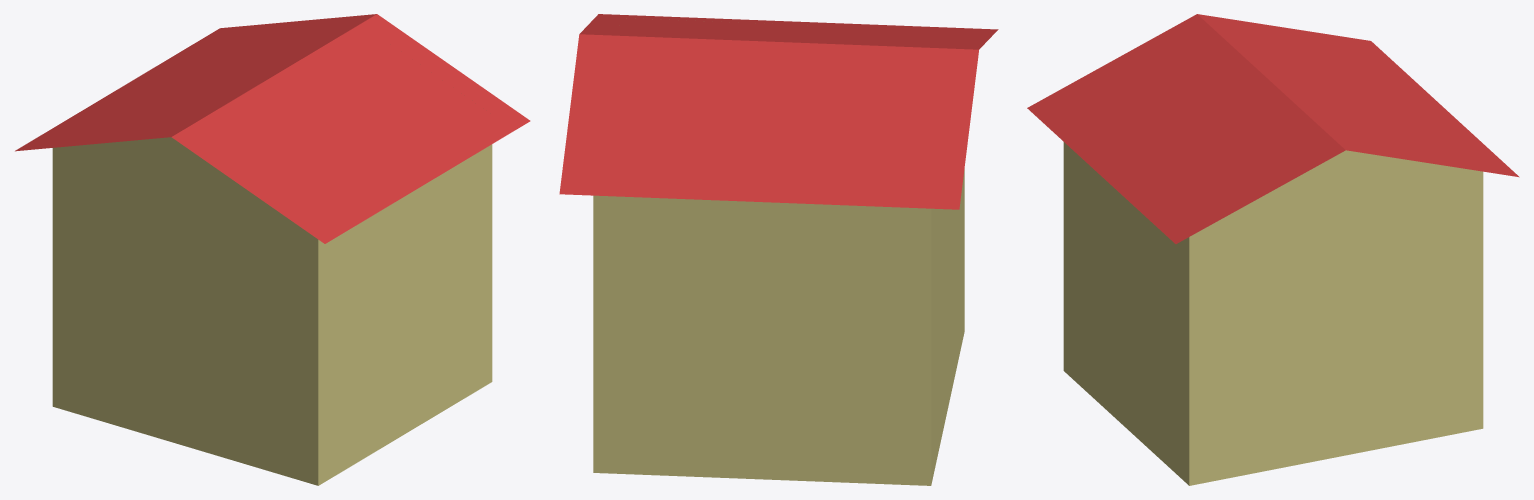
3 views of the same model, side by side, from view 1: azimuth 30°, elevation 25°; view 2: azimuth 150°, elevation 25°; view 3: azimuth 270°, elevation 25° (orthographic). The views are drawn at different scales.
Size of the model in its own units: 8.72 by 8.93 by 6.36.
